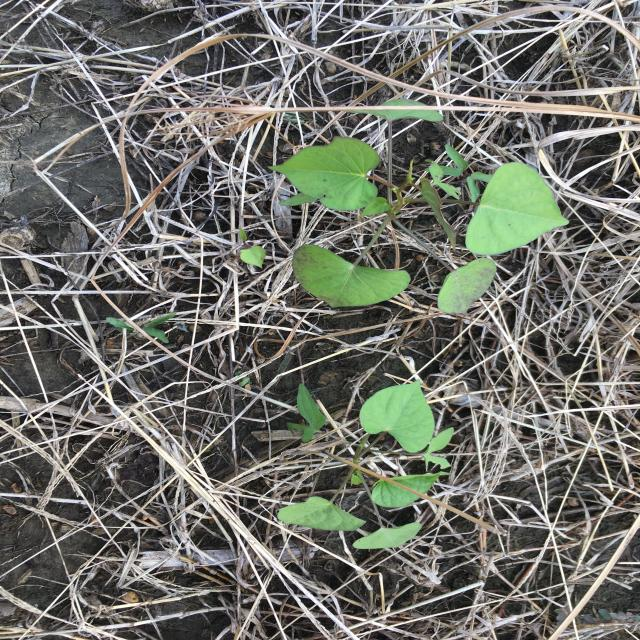MorningGlory: (234, 93, 572, 318), (273, 377, 456, 553)
